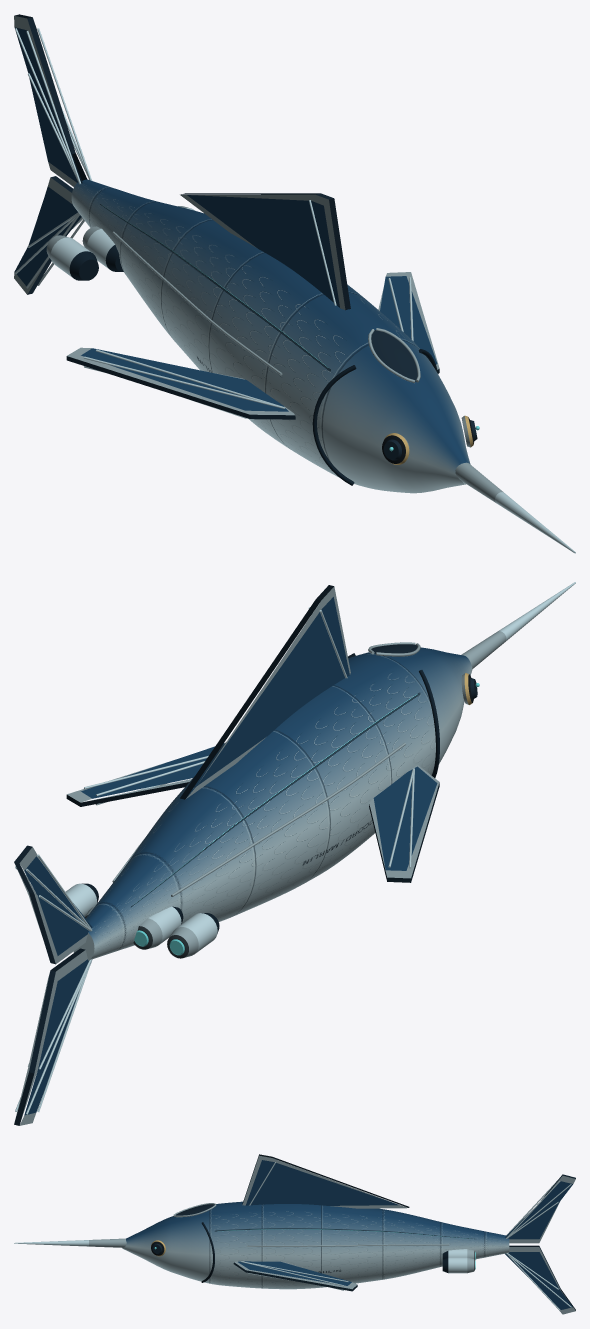
File: marlin.glb
The picture shows the model from 3 angles, top to bottom: view 1: azimuth 30°, elevation 25°; view 2: azimuth 150°, elevation 25°; view 3: azimuth 270°, elevation 25°; orthographic projection. The views are drawn at different scales.
Parts seen in each view (by area): view 1: marlin_hull; view 2: marlin_hull; view 3: marlin_hull.
Boxes of the visible parts, <box> form: marlin_hull: <box>14,14,575,553</box>; marlin_hull: <box>14,582,575,1125</box>; marlin_hull: <box>14,1154,575,1314</box>.
Bounding box in the file's own units: 92.3 × 80.93 × 259.
Materials: 1 (1 with a texture image).
